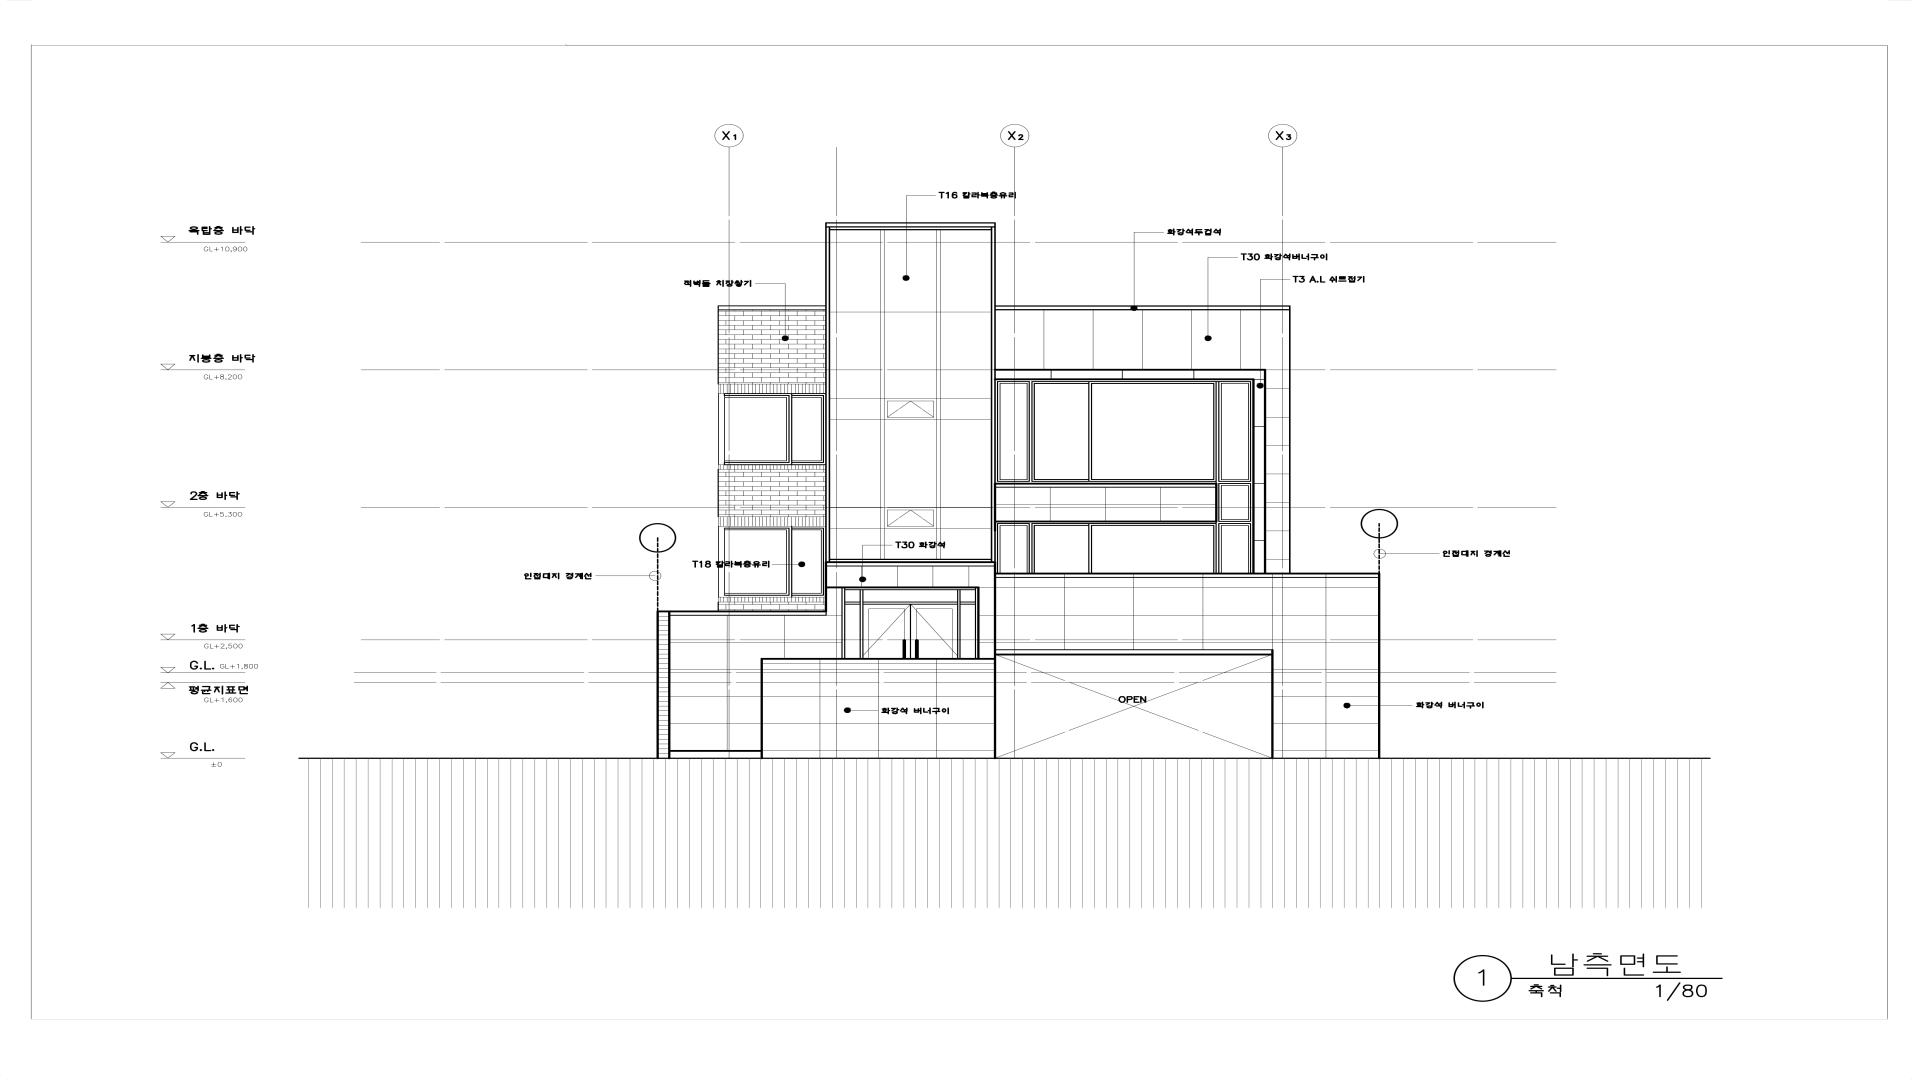door: (994, 654, 1275, 760), (841, 587, 978, 659)
wall: (657, 223, 1381, 760)
window: (1031, 380, 1217, 483), (1031, 521, 1218, 574), (724, 394, 825, 465), (724, 526, 825, 597), (1216, 380, 1253, 483), (994, 380, 1031, 483), (994, 522, 1031, 574), (1217, 521, 1253, 574), (1216, 483, 1253, 522), (884, 398, 936, 419), (884, 508, 936, 529)
